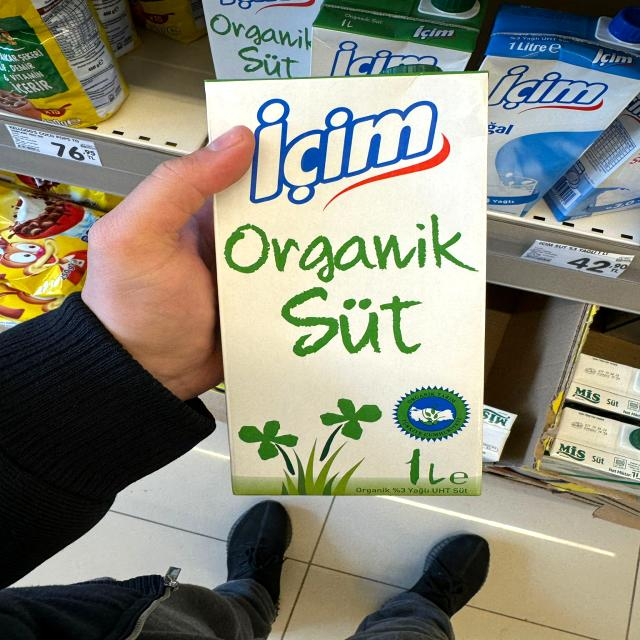milk: (217, 90, 483, 494)
